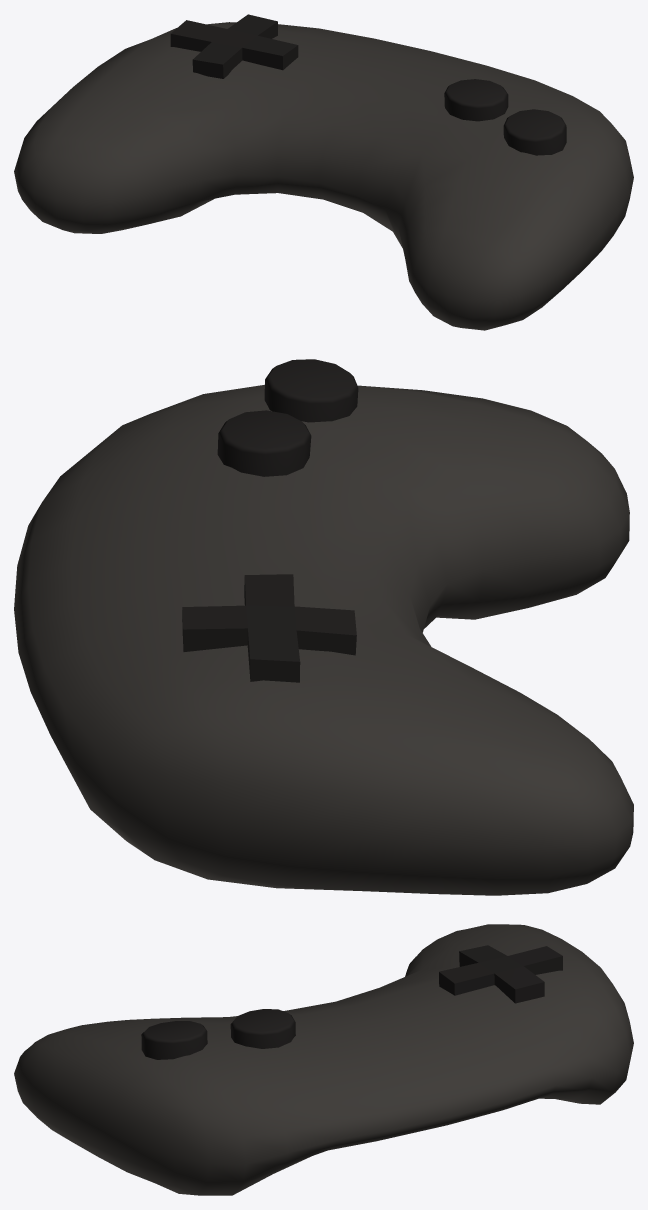
Rendered from ThroneRoom_Controller.fbx.
The picture shows the model from 3 angles, top to bottom: view 1: azimuth 30°, elevation 25°; view 2: azimuth 150°, elevation 25°; view 3: azimuth 270°, elevation 25°; orthographic projection. The views are drawn at different scales.
Visible parts, largest first — view 1: ThroneRoom_Controller; view 2: ThroneRoom_Controller; view 3: ThroneRoom_Controller.
Boxes of the visible parts, box(x1,y1,x2,y2) form: ThroneRoom_Controller: box(14, 14, 633, 330); ThroneRoom_Controller: box(14, 359, 633, 895); ThroneRoom_Controller: box(14, 924, 633, 1195).
Size of the model in its own units: 0.6738 by 0.1972 by 0.7633.
1 material, 1 textured.
